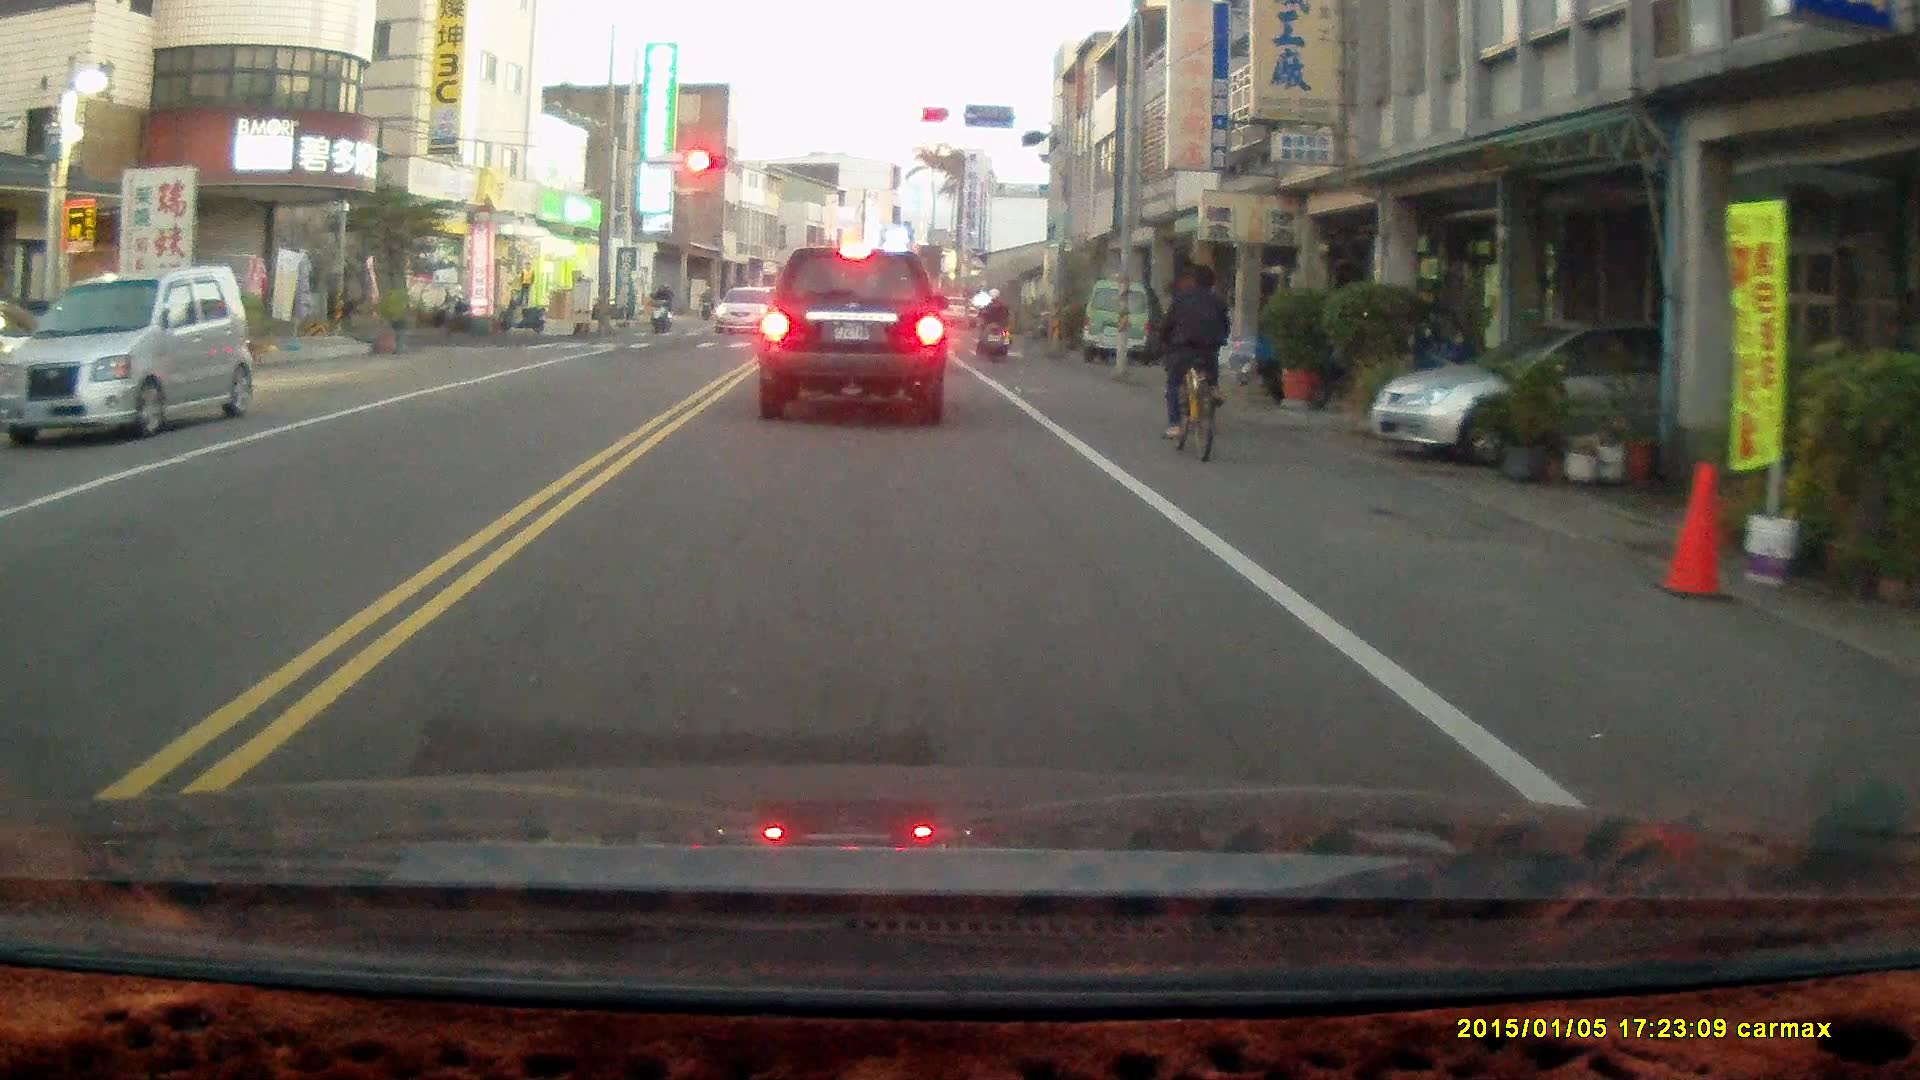pedestrian: (516, 259, 536, 308)
rider: (1162, 263, 1233, 461), (973, 283, 1015, 360), (647, 284, 674, 337)
vehicle: (1371, 321, 1791, 471), (12, 266, 262, 453), (755, 244, 952, 427), (1084, 285, 1166, 364)
